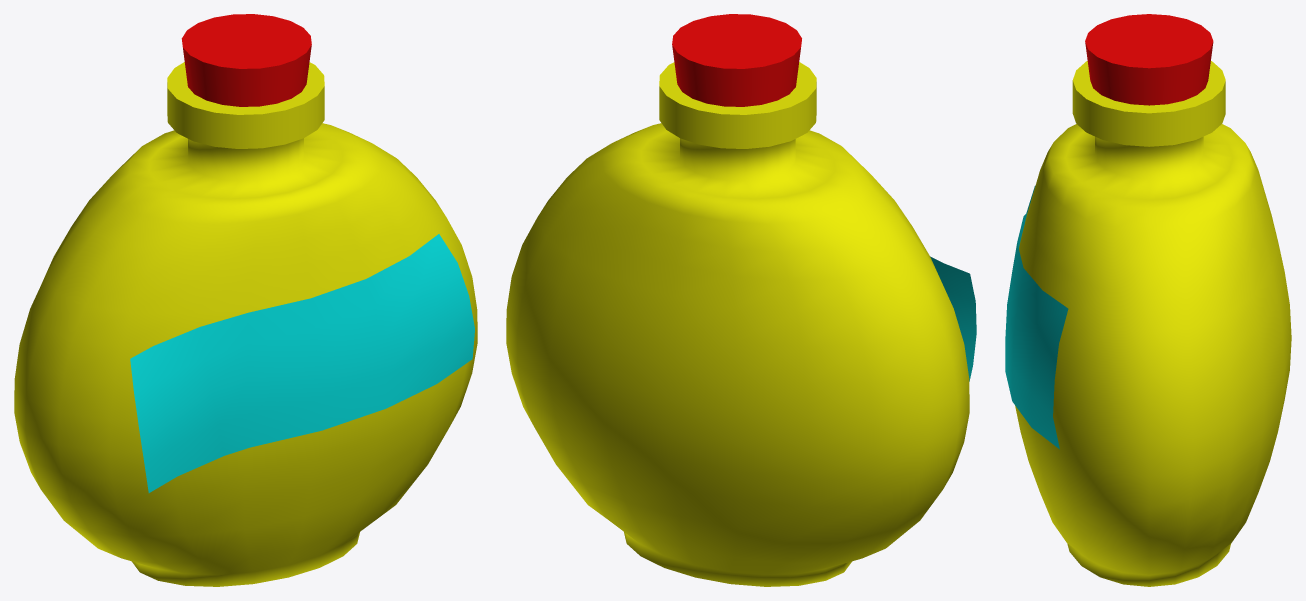
Rendered from P_Flasque02.fbx.
The picture shows the model from 3 angles, left to right: view 1: azimuth 30°, elevation 25°; view 2: azimuth 150°, elevation 25°; view 3: azimuth 270°, elevation 25°; orthographic projection.
Visible parts, largest first — view 1: Flasque_LowP_liquide; view 2: Flasque_LowP_liquide; view 3: Flasque_LowP_liquide.
Part boxes in pixels (left/top/right/bottom): Flasque_LowP_liquide: left=14, top=14, right=477, bottom=586; Flasque_LowP_liquide: left=506, top=14, right=976, bottom=586; Flasque_LowP_liquide: left=1005, top=14, right=1291, bottom=586.
Size of the model in its own units: 3.91 by 4.28 by 2.24.
